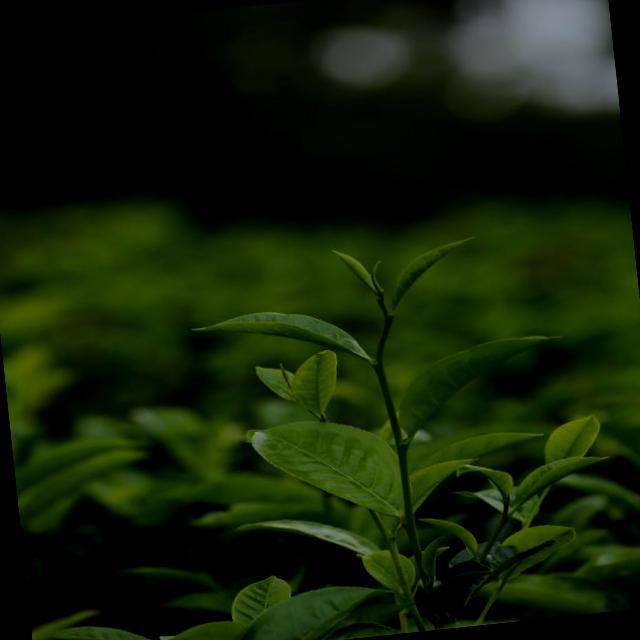Stem: (501, 513, 511, 523), (385, 315, 393, 323)
